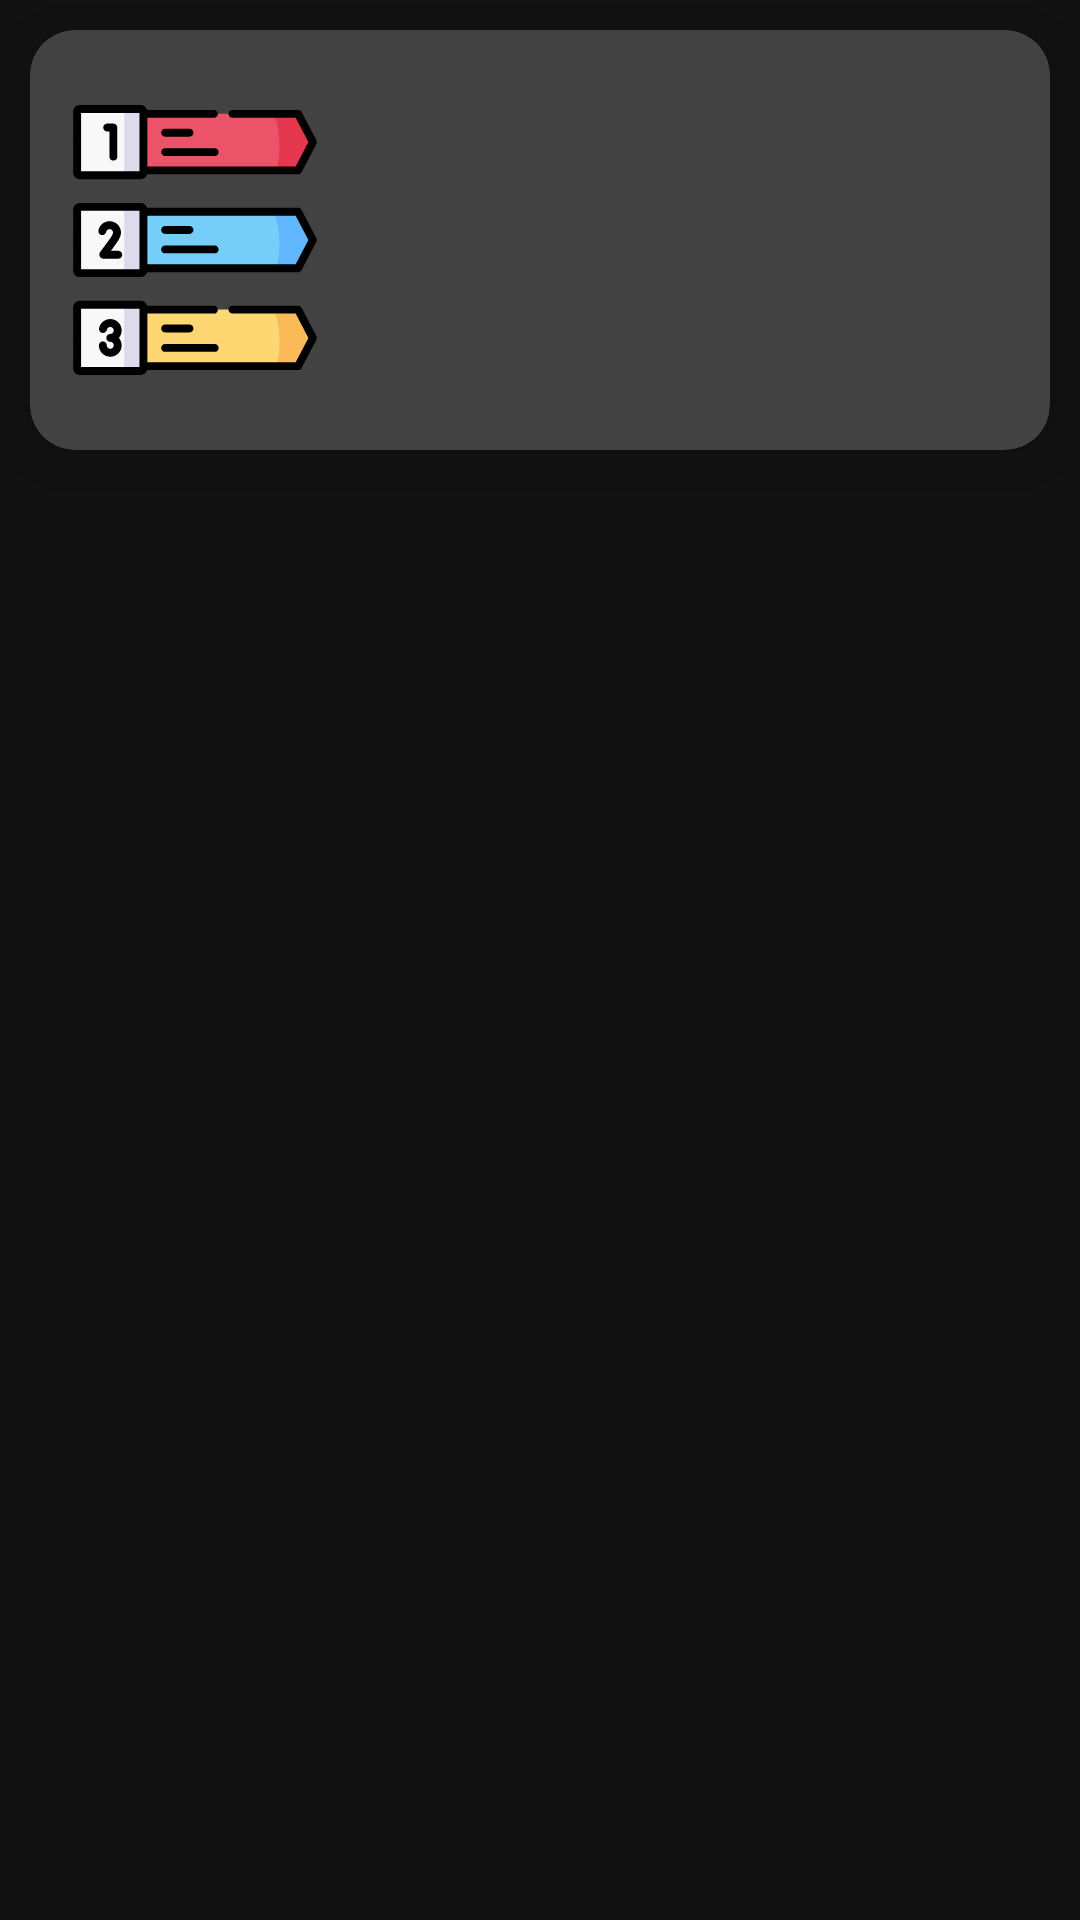

Icons on this 1080×1920 Android screen, each with the point to tap as point (x, y):
list: point (195, 240)
